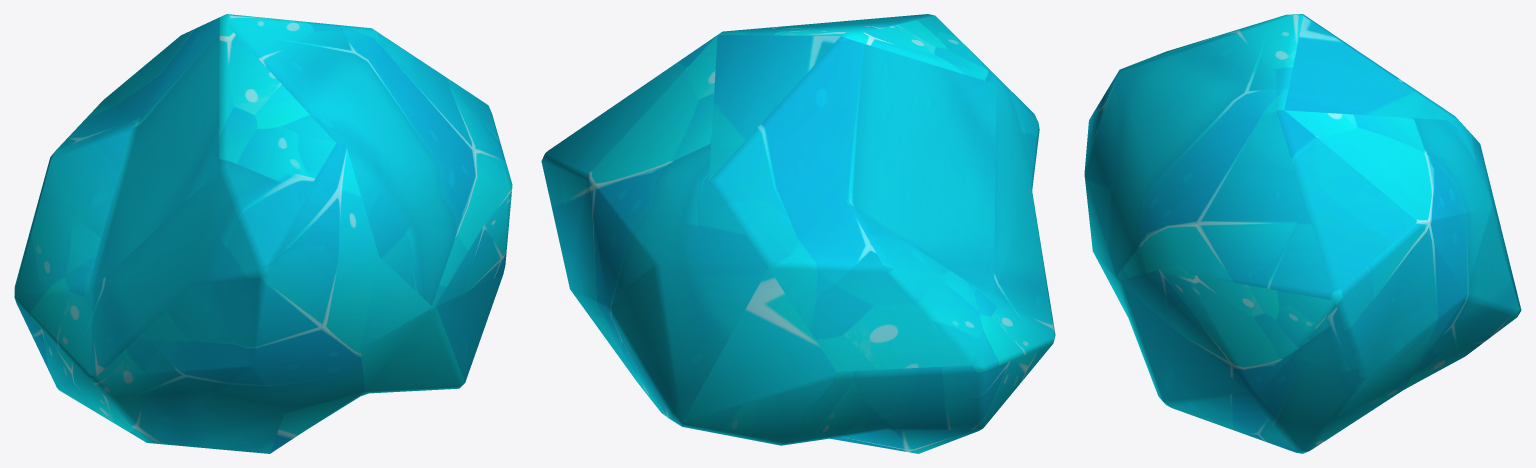
Rendered from hielo1.fbx.
3 renders of one model, left to right at view 1: azimuth 30°, elevation 25°; view 2: azimuth 150°, elevation 25°; view 3: azimuth 270°, elevation 25°, orthographic. The views are drawn at different scales.
Visible parts, largest first — view 1: Icosphere; view 2: Icosphere; view 3: Icosphere.
Part boxes in pixels (x1,y1,x2,y2): Icosphere: (14, 14, 512, 453); Icosphere: (541, 14, 1055, 453); Icosphere: (1084, 14, 1521, 453).
Bounding box in the file's own units: 10.43 × 8.68 × 9.59.
